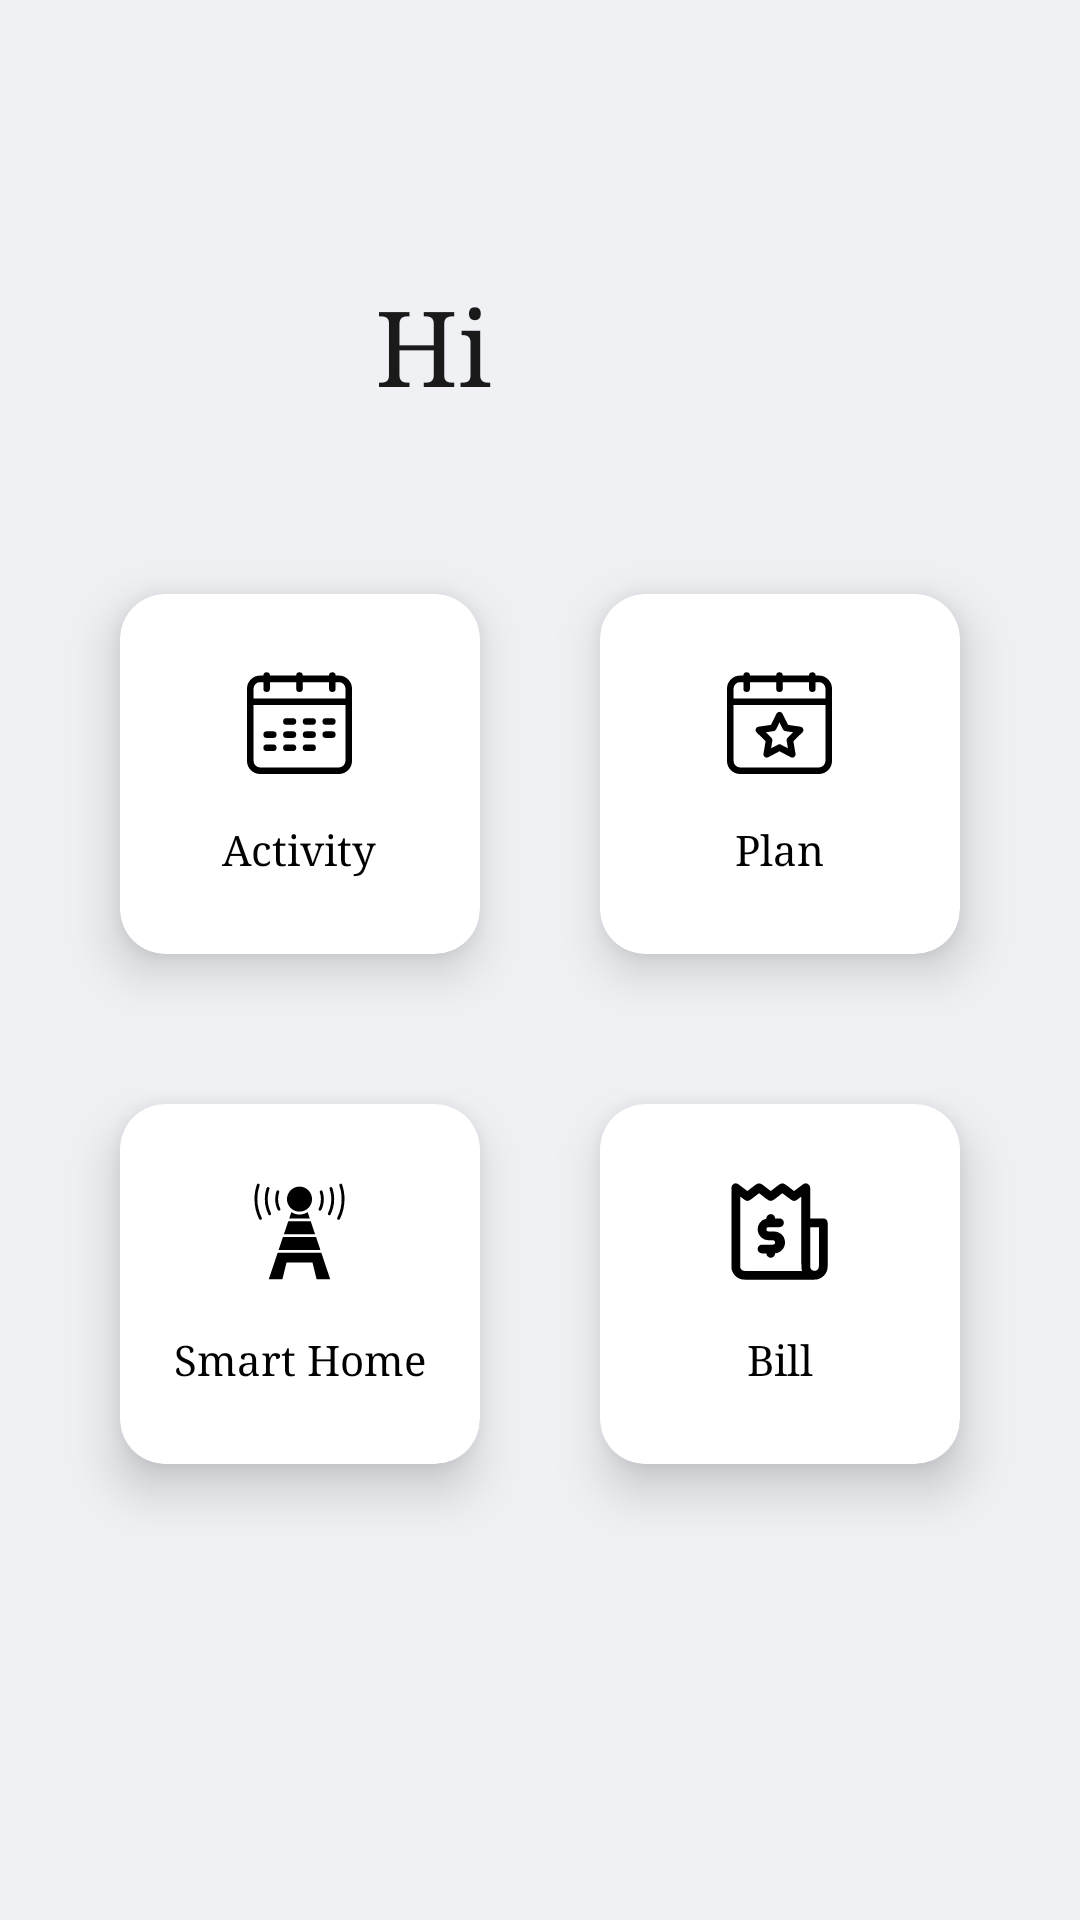

Named icons in this screenshot (1080×1920) and their bounding boxes, (x1, y1, x2, y2):
calendar: (247, 672, 352, 774)
wireless: (254, 1183, 345, 1280)
